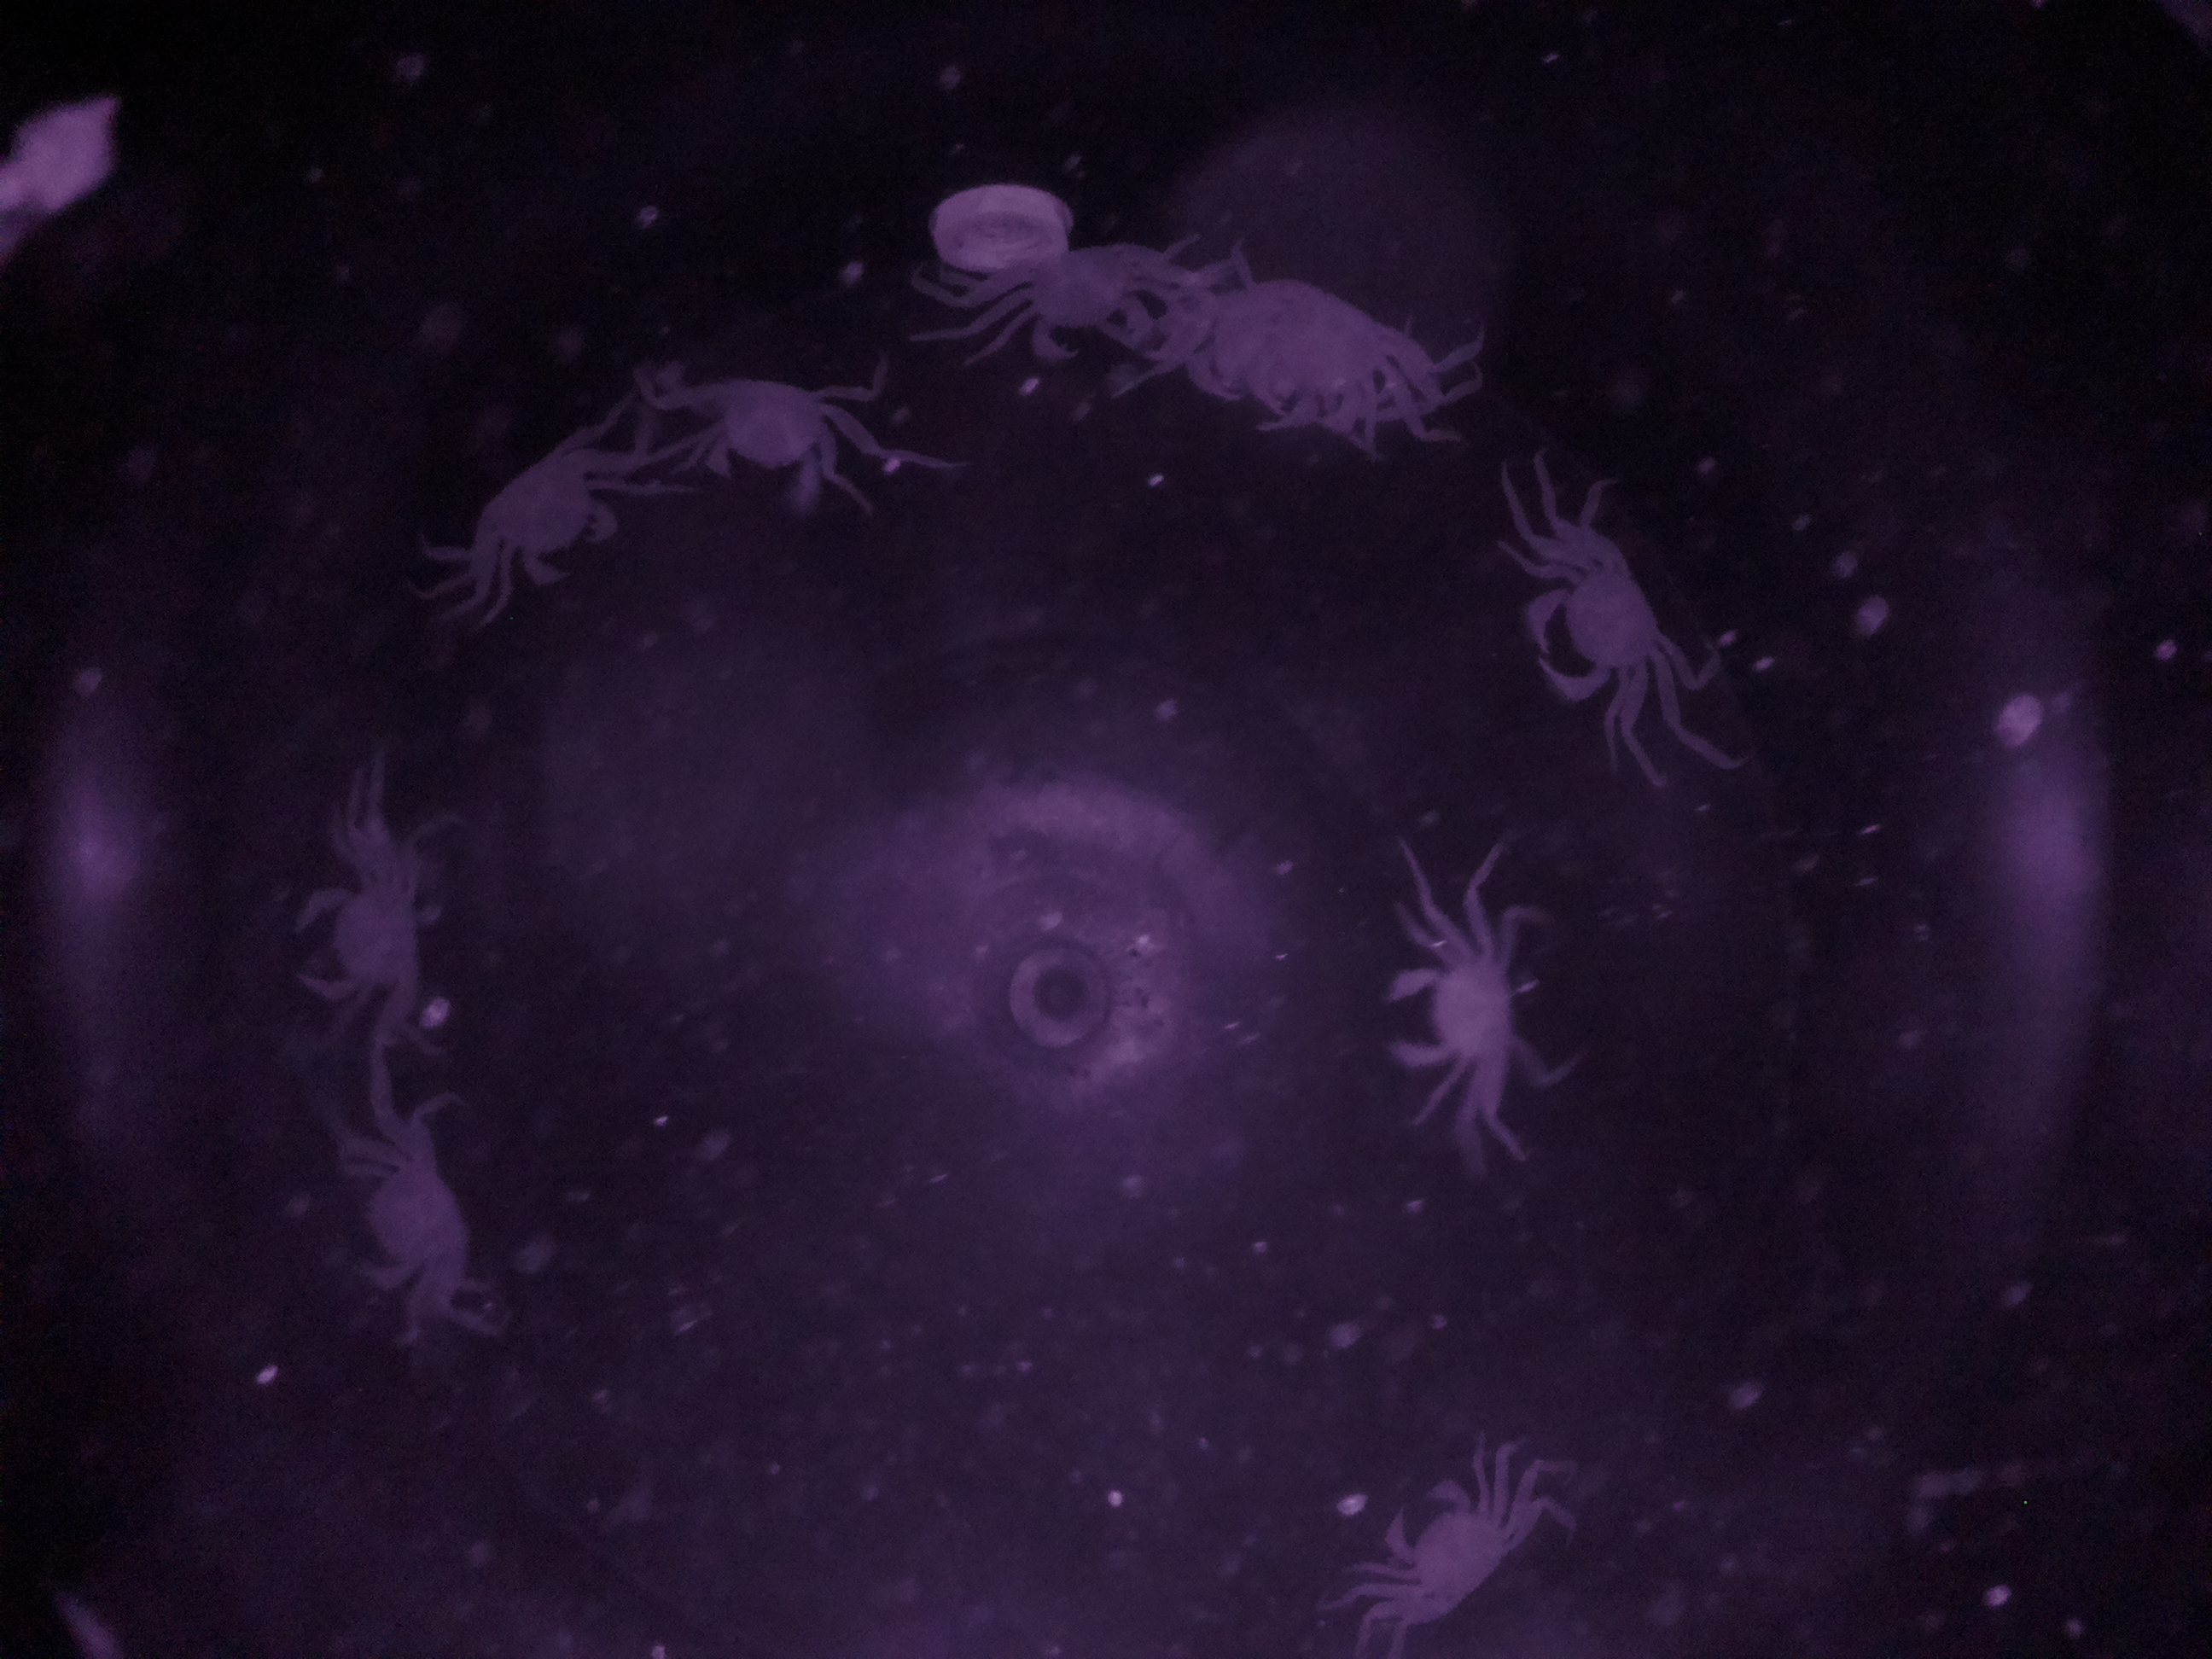Crab: (644, 343, 878, 525), (1519, 523, 1683, 758), (1362, 1441, 1533, 1643), (455, 425, 637, 603)
